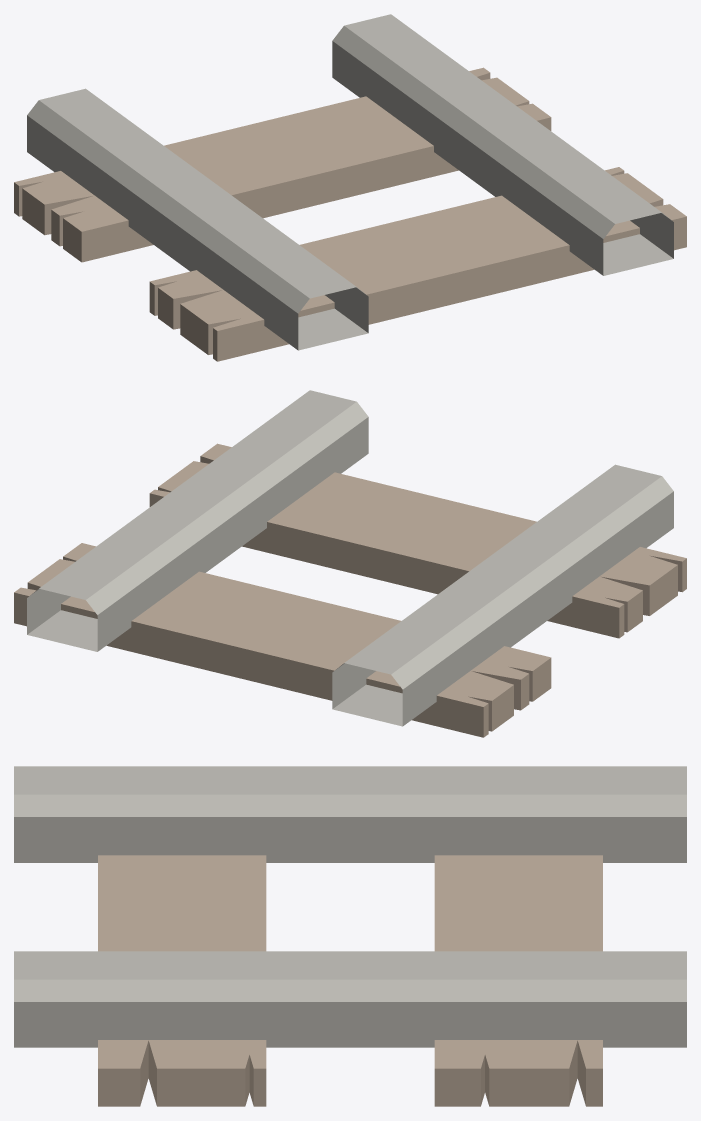
The model's file is Cave_Prop_Railway_Straight_3.glb.
3 renders of one model, top to bottom at view 1: azimuth 30°, elevation 25°; view 2: azimuth 150°, elevation 25°; view 3: azimuth 270°, elevation 25°, orthographic. The views are drawn at different scales.
Visible parts, largest first — view 1: Cave_Prop_Railway_Straight_3; view 2: Cave_Prop_Railway_Straight_3; view 3: Cave_Prop_Railway_Straight_3.
Part boxes in pixels (x1,y1,x2,y2): Cave_Prop_Railway_Straight_3: (14, 14, 686, 361); Cave_Prop_Railway_Straight_3: (14, 390, 686, 737); Cave_Prop_Railway_Straight_3: (14, 766, 686, 1106).
Size of the model in its own units: 0.53 by 0.0795 by 0.53.
